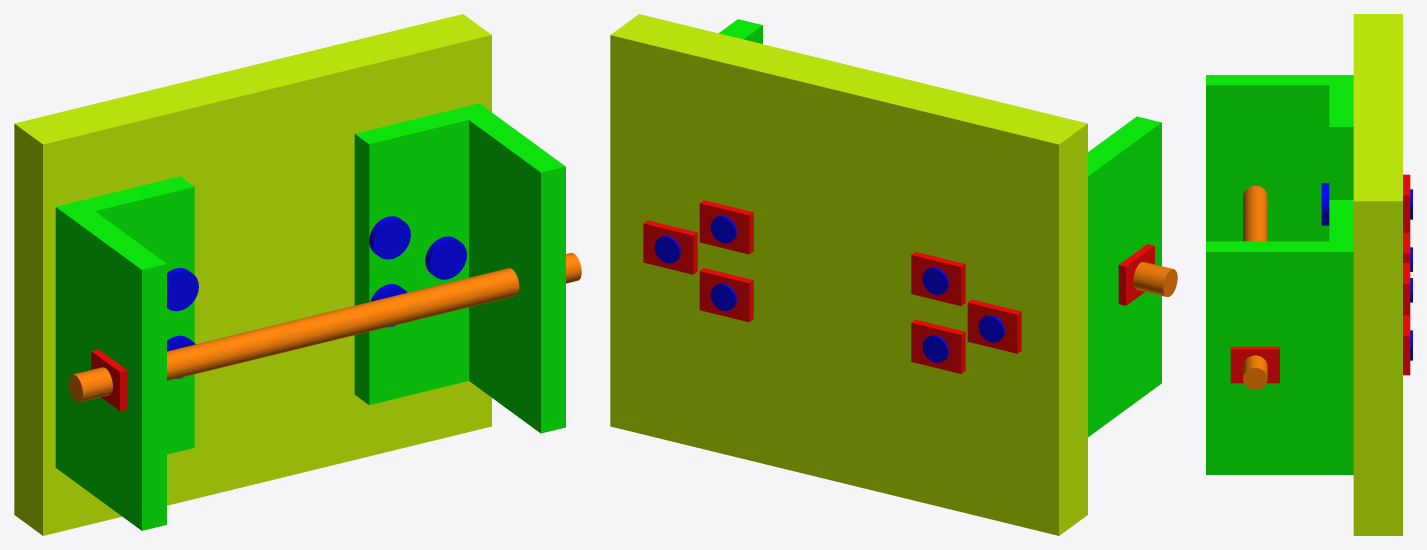
Rendered from test.meters.glb.
3 views of the same model, side by side, from view 1: azimuth 30°, elevation 25°; view 2: azimuth 150°, elevation 25°; view 3: azimuth 270°, elevation 25° (orthographic). The views are drawn at different scales.
Visible parts, largest first — view 1: plate, l-bracket (×2), rod, bolt (×3), nut; view 2: plate, l-bracket (×2), nut (×7), rod; view 3: l-bracket (×2), plate, nut (×4), rod, bolt.
Boxes of the visible parts, bbox=[...] form: plate: bbox=[14, 14, 491, 535]; l-bracket (×2): bbox=[55, 103, 565, 530]; rod: bbox=[68, 252, 581, 402]; bolt (×3): bbox=[167, 216, 466, 311]; nut: bbox=[91, 349, 127, 411]; plate: bbox=[610, 14, 1087, 535]; l-bracket (×2): bbox=[719, 19, 1161, 436]; nut (×7): bbox=[643, 200, 1154, 373]; rod: bbox=[1133, 262, 1177, 296]; l-bracket (×2): bbox=[1206, 75, 1353, 474]; plate: bbox=[1353, 14, 1402, 535]; nut (×4): bbox=[1230, 174, 1410, 383]; rod: bbox=[1243, 185, 1267, 390]; bolt: bbox=[1321, 183, 1412, 220].
Bounding box in the file's own units: 0.2 × 0.15 × 0.084.
